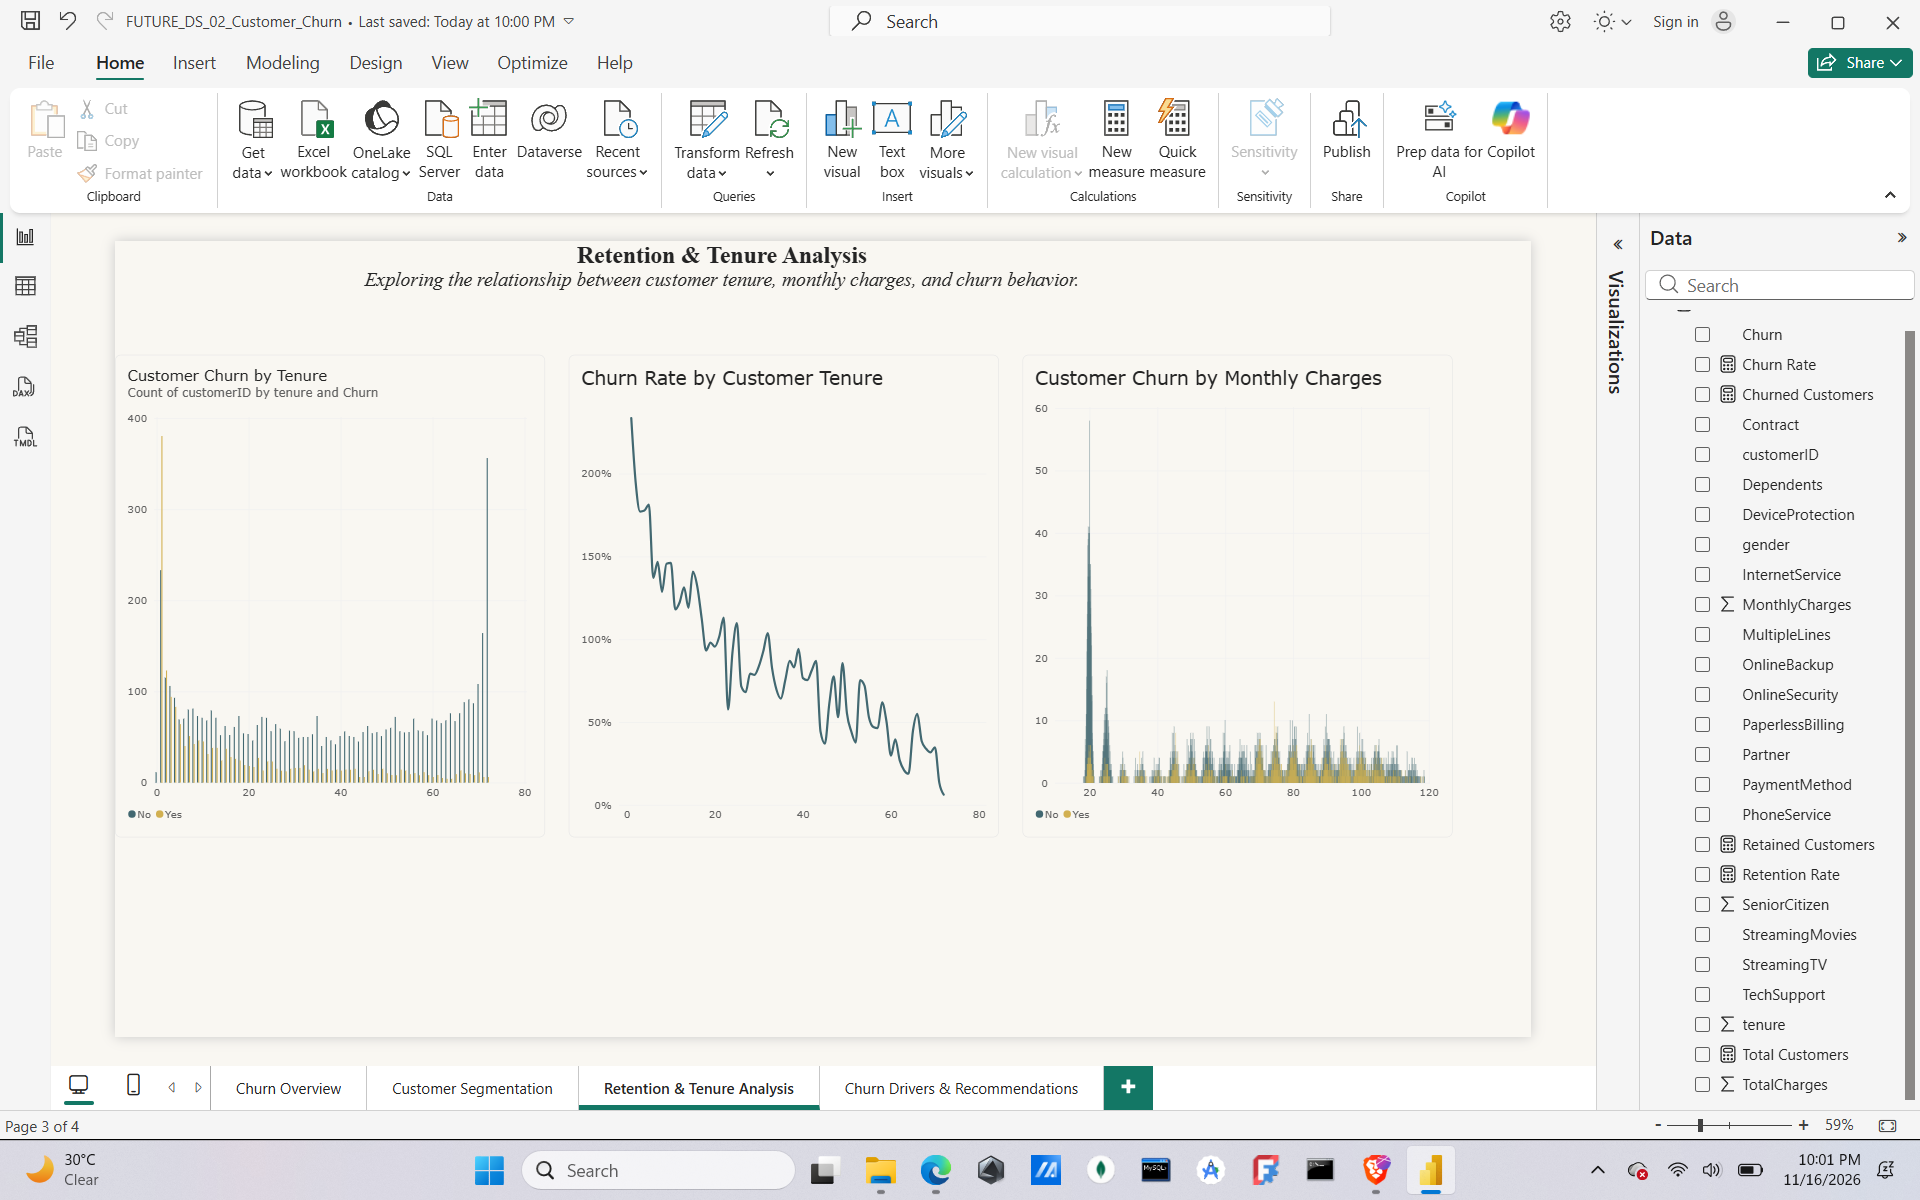

The page's visual inventory and layout, read from the dashboard file:
{"tool":"powerbi","page":{"name":"Retention & Tenure Analysis","canvas":[1920,1080],"ordinal":2},"visuals":[{"type":"clusteredColumnChart","title":"Customer Churn by Tenure","fields":{"Category":["ChurnData.tenure"],"Series":["ChurnData.Churn"],"Y":["Count(ChurnData.customerID)"]},"box":[0,154.2,583.4,654.2],"z":0,"group":"g1"},{"type":"lineChart","title":"Churn Rate by Customer Tenure","fields":{"Category":["ChurnData.tenure"],"Y":["ChurnData.Churn Rate"]},"box":[616,154.2,583.4,654.2],"z":1,"group":"g1"},{"type":"clusteredColumnChart","title":"Customer Churn by Monthly Charges","fields":{"Category":["ChurnData.MonthlyCharges"],"Series":["ChurnData.Churn"],"Y":["Count(ChurnData.customerID)"]},"box":[1230.2,154.2,583.4,654.2],"z":2,"group":"g1"},{"type":"textbox","box":[0,0,1645.8,128.8],"z":3},{"type":"group","id":"g1","title":"Group 1","box":[0,154.2,1813.6,654.2],"z":4}]}

Visuals, with their boxes on the page's 1920x1080 design canvas (x1, y1, x2, y2). These are canvas units, not pixel positions in the 1920x1200 screenshot, which may show the page scaled, cropped or inside an application window:
"Customer Churn by Tenure" clusteredColumnChart: (left=0, top=154, right=583, bottom=808)
"Churn Rate by Customer Tenure" lineChart: (left=616, top=154, right=1199, bottom=808)
"Customer Churn by Monthly Charges" clusteredColumnChart: (left=1230, top=154, right=1814, bottom=808)
textbox: (left=0, top=0, right=1646, bottom=129)
"Group 1" group: (left=0, top=154, right=1814, bottom=808)
